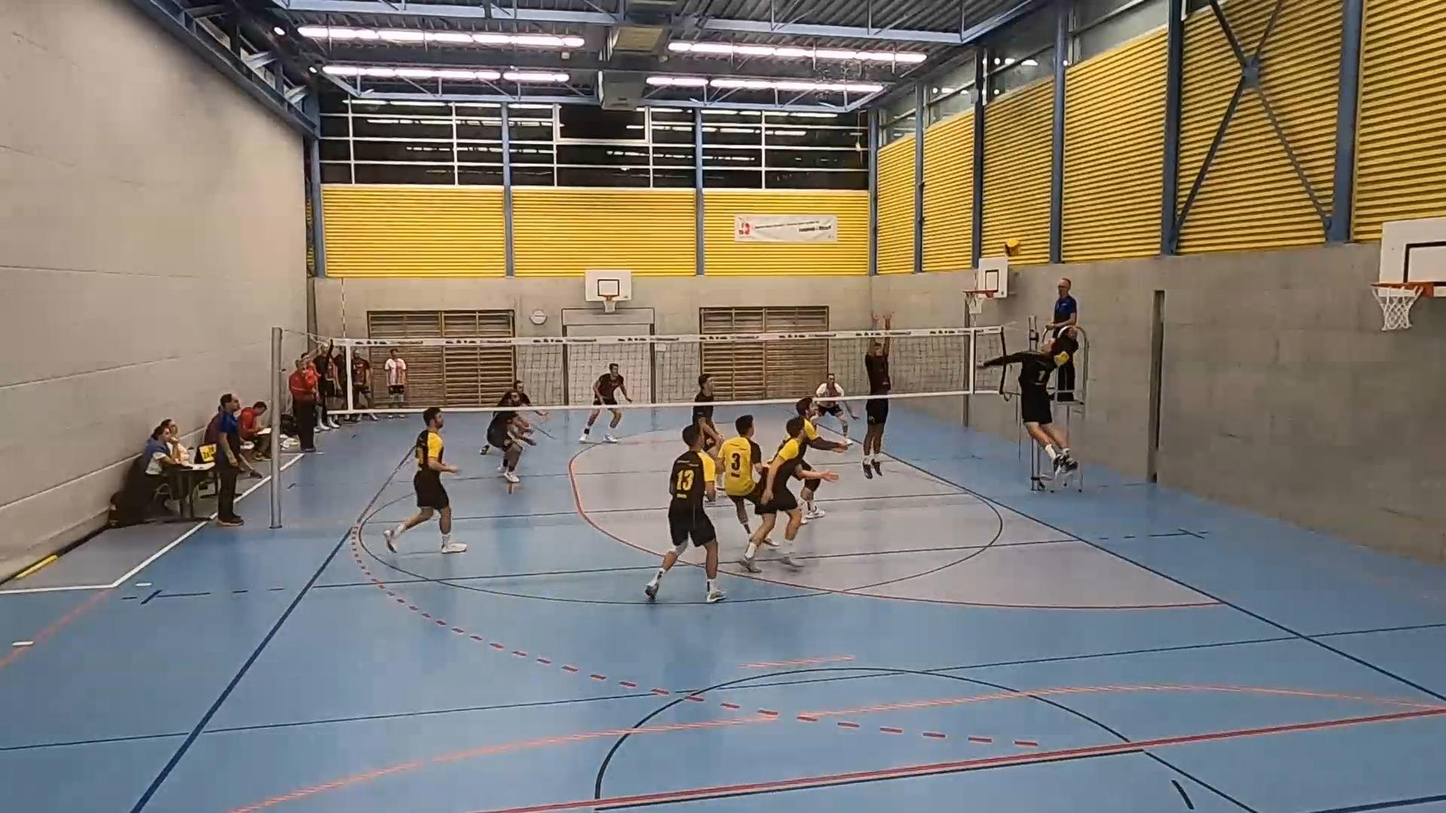Attack: (978, 313, 1082, 484)
Block: (846, 297, 902, 489)
Player: (742, 416, 837, 571), (645, 425, 725, 602), (383, 407, 467, 553), (719, 415, 765, 535), (487, 410, 535, 484), (795, 397, 847, 457), (593, 364, 630, 442), (816, 372, 856, 444), (692, 373, 722, 461), (497, 379, 531, 410)
ball: (1005, 235, 1023, 253)
